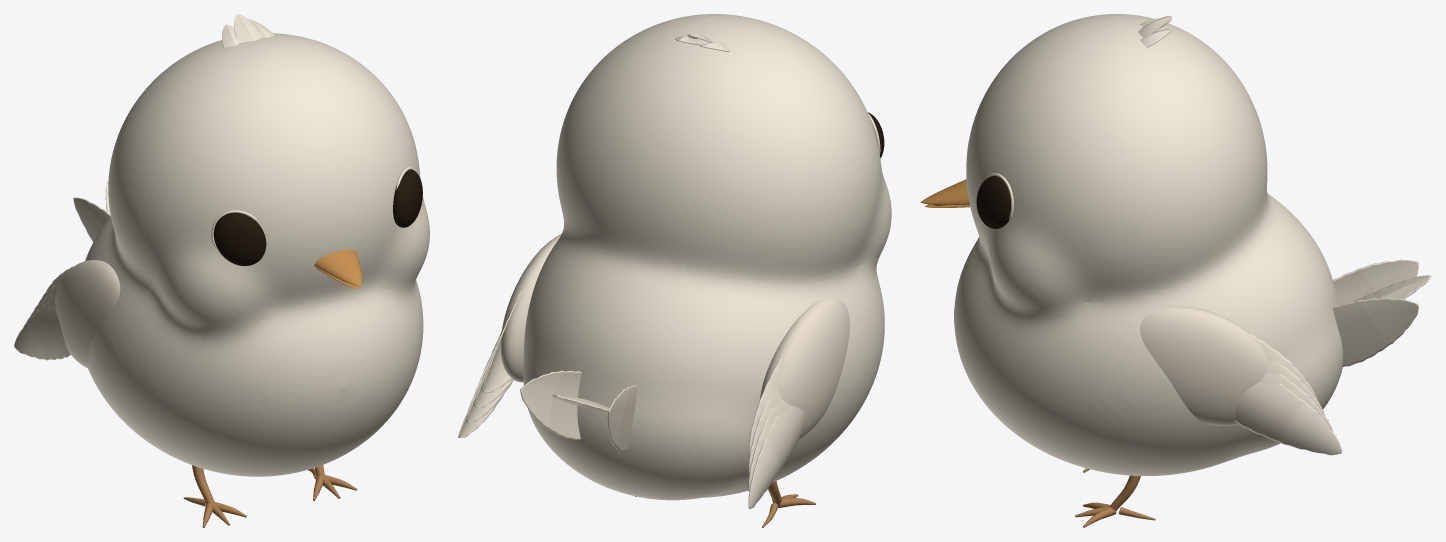
File: Moa_SculptV3.fbx
3 views of the same model, side by side, from view 1: azimuth 30°, elevation 25°; view 2: azimuth 150°, elevation 25°; view 3: azimuth 270°, elevation 25° (orthographic). The views are drawn at different scales.
Visible parts, largest first — view 1: Moa_SculptedBody, Moa_covert_-1, Moa_Eye_-1, Moa_primary_-1_3, Moa_Eye_1, Moa_BeakUpper, Moa_tail_-1, Moa_crown_0; view 2: Moa_SculptedBody, Moa_covert_-1, Moa_tail_1, Moa_covert_1, Moa_primary_-1_3, Moa_tail_-1, Moa_primary_1_0, Moa_primary_-1_2, Moa_primary_-1_0, Moa_primary_-1_1, Moa_primary_1_1, Moa_primary_1_2; view 3: Moa_SculptedBody, Moa_covert_1, Moa_primary_1_3, Moa_tail_1, Moa_tail_-1, Moa_Eye_1, Moa_tail_0, Moa_BeakUpper, Moa_primary_1_2, Moa_primary_1_0.
Boxes of the visible parts, left/top/right/bottom form: Moa_SculptedBody: left=85, top=33, right=429, bottom=476; Moa_covert_-1: left=55, top=260, right=120, bottom=368; Moa_Eye_-1: left=213, top=213, right=266, bottom=265; Moa_primary_-1_3: left=14, top=301, right=70, bottom=360; Moa_Eye_1: left=393, top=169, right=422, bottom=227; Moa_BeakUpper: left=314, top=249, right=362, bottom=286; Moa_tail_-1: left=73, top=197, right=110, bottom=242; Moa_crown_0: left=234, top=14, right=261, bottom=42; Moa_SculptedBody: left=523, top=14, right=891, bottom=500; Moa_covert_-1: left=759, top=297, right=849, bottom=439; Moa_tail_1: left=520, top=370, right=581, bottom=440; Moa_covert_1: left=501, top=234, right=561, bottom=382; Moa_primary_-1_3: left=748, top=405, right=805, bottom=508; Moa_tail_-1: left=607, top=385, right=636, bottom=452; Moa_primary_1_0: left=482, top=291, right=521, bottom=392; Moa_primary_-1_2: left=748, top=399, right=790, bottom=491; Moa_primary_-1_0: left=748, top=355, right=782, bottom=456; Moa_primary_-1_1: left=748, top=390, right=782, bottom=473; Moa_primary_1_1: left=474, top=325, right=513, bottom=407; Moa_primary_1_2: left=466, top=342, right=510, bottom=422; Moa_SculptedBody: left=954, top=14, right=1342, bottom=475; Moa_covert_1: left=1140, top=306, right=1267, bottom=425; Moa_primary_1_3: left=1234, top=382, right=1341, bottom=455; Moa_tail_1: left=1332, top=298, right=1418, bottom=367; Moa_tail_-1: left=1333, top=259, right=1418, bottom=305; Moa_Eye_1: left=976, top=175, right=1013, bottom=228; Moa_tail_0: left=1340, top=275, right=1431, bottom=337; Moa_BeakUpper: left=920, top=179, right=969, bottom=204; Moa_primary_1_2: left=1259, top=372, right=1332, bottom=431; Moa_primary_1_0: left=1248, top=333, right=1317, bottom=400.
Size of the model in its own units: 61.6 by 93.23 by 91.1.
